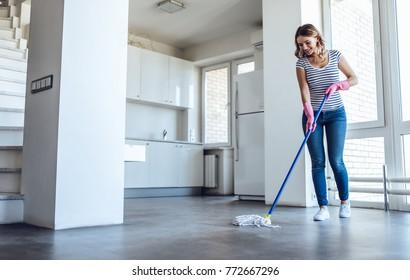gloves: (302, 102, 317, 132), (325, 81, 350, 99)
